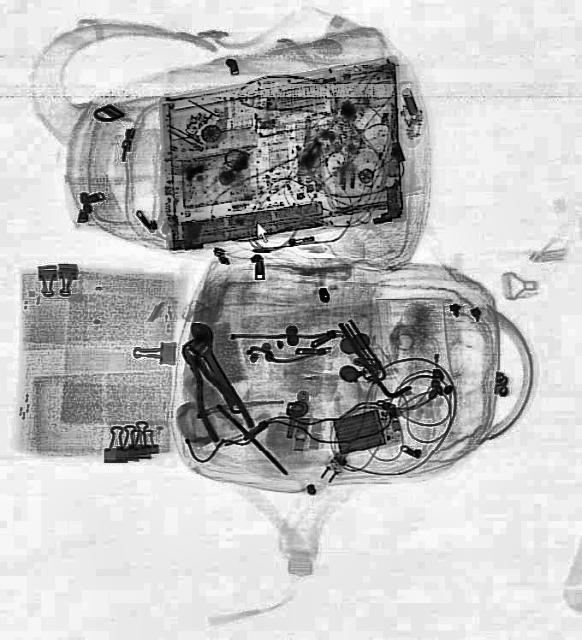Pliers: (166, 334, 254, 446)
Wrench: (176, 316, 250, 418)
